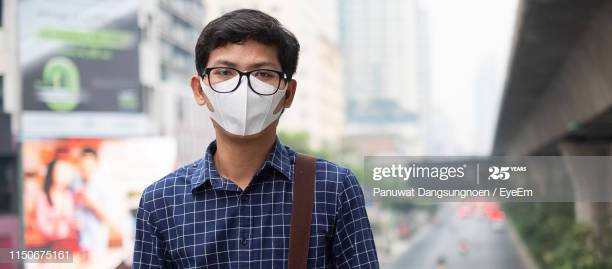mask: (182, 6, 310, 140)
